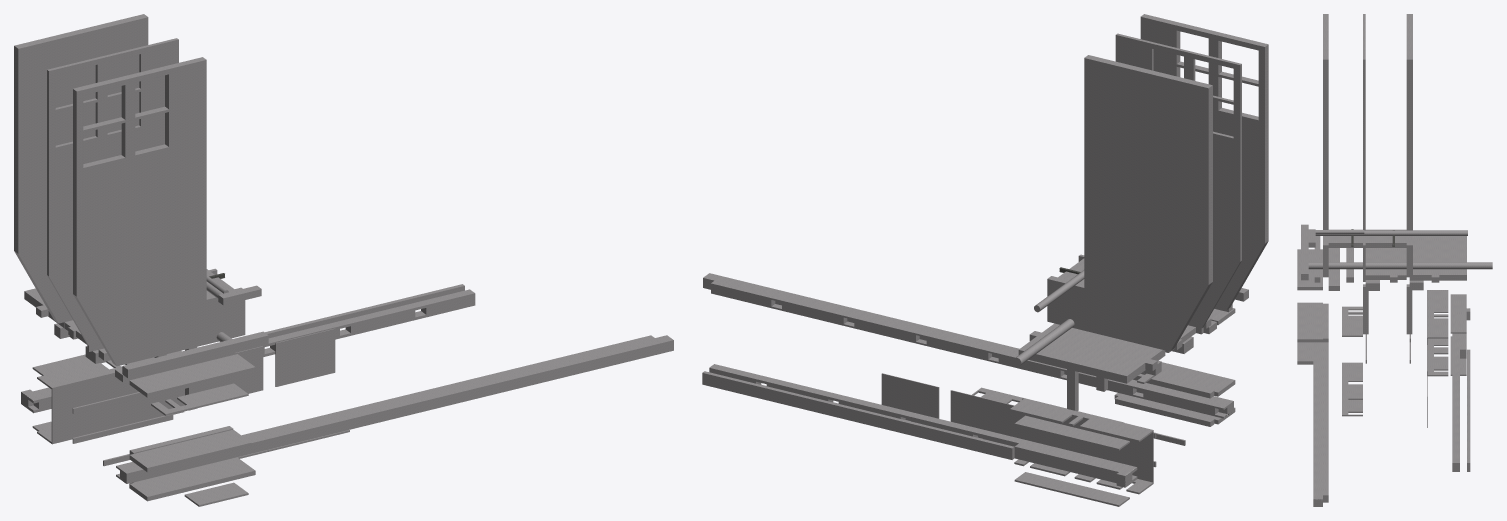
The picture shows the model from 3 angles, left to right: view 1: azimuth 30°, elevation 25°; view 2: azimuth 150°, elevation 25°; view 3: azimuth 270°, elevation 25°; orthographic projection. The views are drawn at different scales.
Visible parts, largest first — view 1: 0_0_2; view 2: 0_0_2; view 3: 0_0_2.
Part boxes in pixels (<box>): 0_0_2: <box>14,14,673,506</box>; 0_0_2: <box>702,14,1268,506</box>; 0_0_2: <box>1297,14,1492,506</box>.
Size of the model in its own units: 70.44 by 52.25 by 28.12.
Materials: 48 (48 with a texture image).
